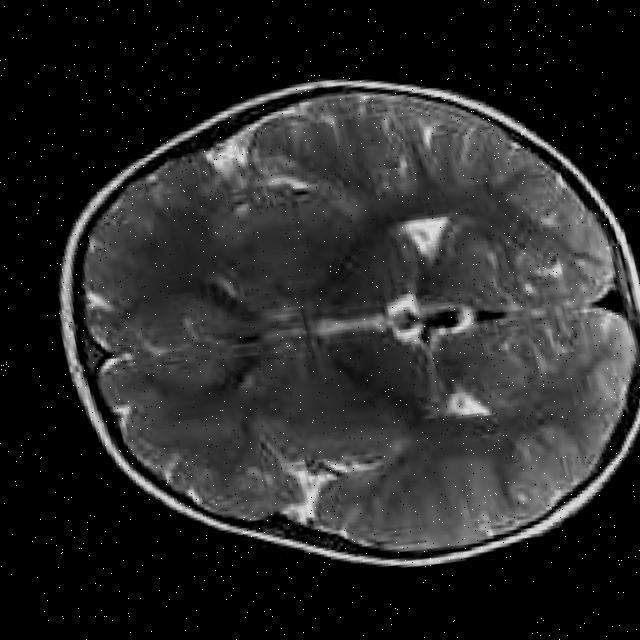NoTumor: (23, 24, 640, 625)
